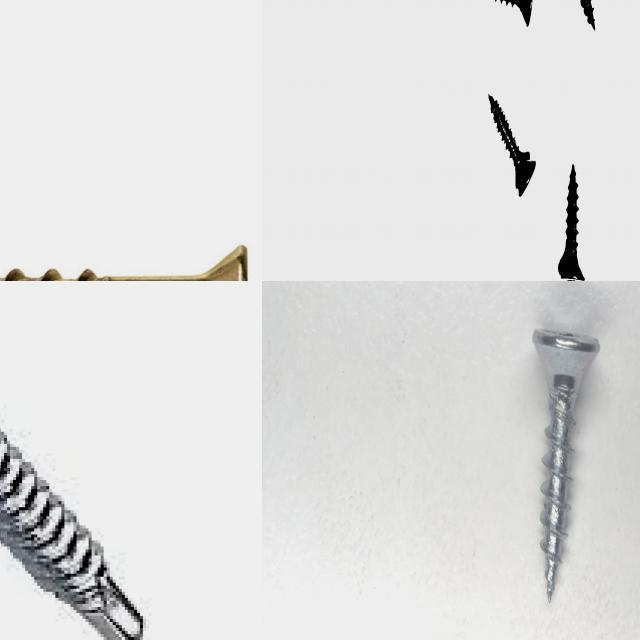Screw: (0, 430, 143, 640), (532, 328, 600, 601), (489, 93, 536, 195), (559, 163, 585, 281)
